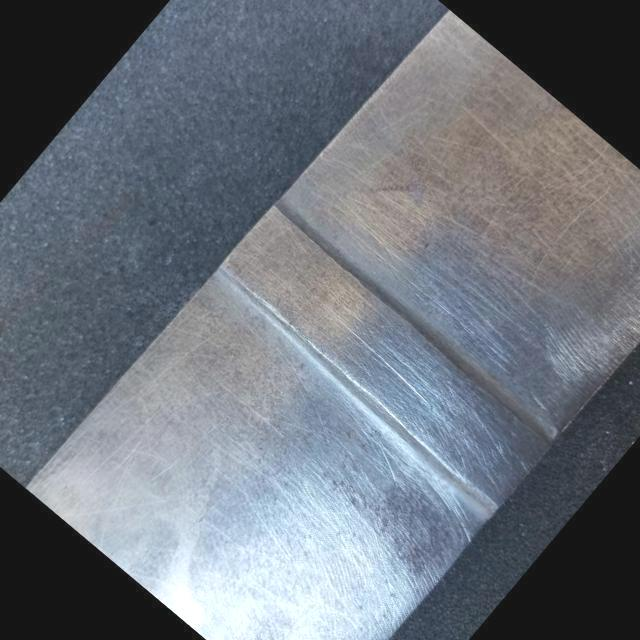defect: (329, 315, 427, 408)
